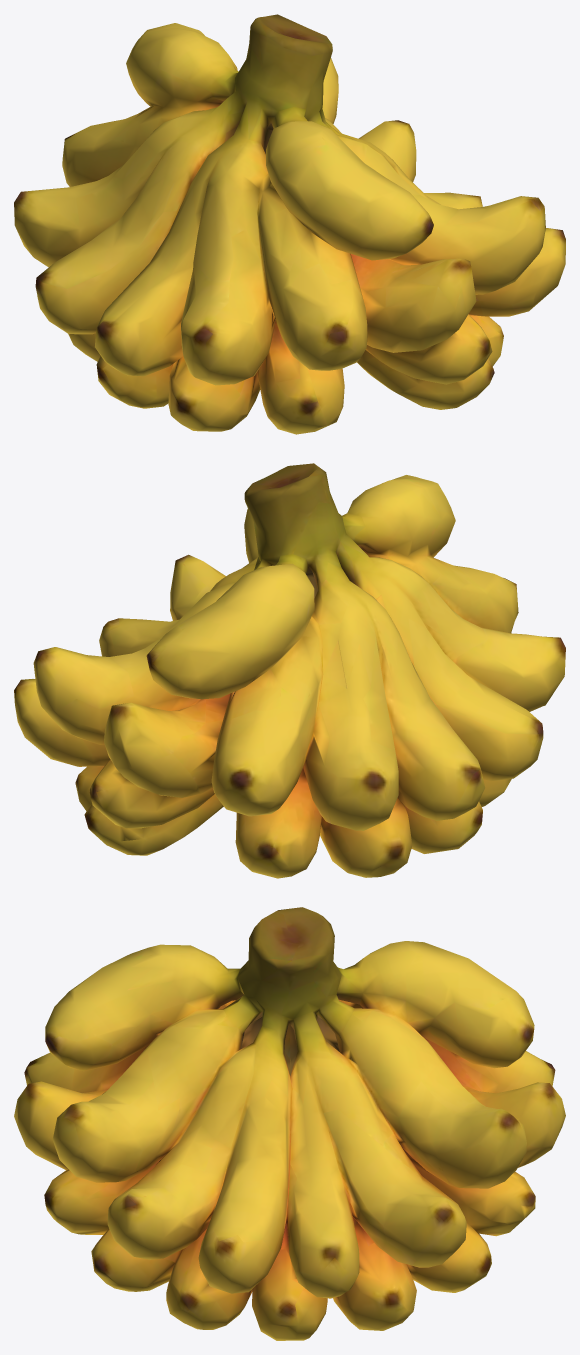
The model's file is banana_bunch.glb.
The picture shows the model from 3 angles, top to bottom: view 1: azimuth 30°, elevation 25°; view 2: azimuth 150°, elevation 25°; view 3: azimuth 270°, elevation 25°; orthographic projection. The views are drawn at different scales.
Parts seen in each view (by area): view 1: tripo_node_8c5216fe-9877-4787-be56-84018f0676dc; view 2: tripo_node_8c5216fe-9877-4787-be56-84018f0676dc; view 3: tripo_node_8c5216fe-9877-4787-be56-84018f0676dc.
Boxes of the visible parts, bbox=[...] form: tripo_node_8c5216fe-9877-4787-be56-84018f0676dc: bbox=[14, 14, 565, 434]; tripo_node_8c5216fe-9877-4787-be56-84018f0676dc: bbox=[14, 463, 565, 878]; tripo_node_8c5216fe-9877-4787-be56-84018f0676dc: bbox=[14, 907, 565, 1340].
Bounding box in the file's own units: 0.3177 × 0.25 × 0.355.
1 material, 1 textured.
